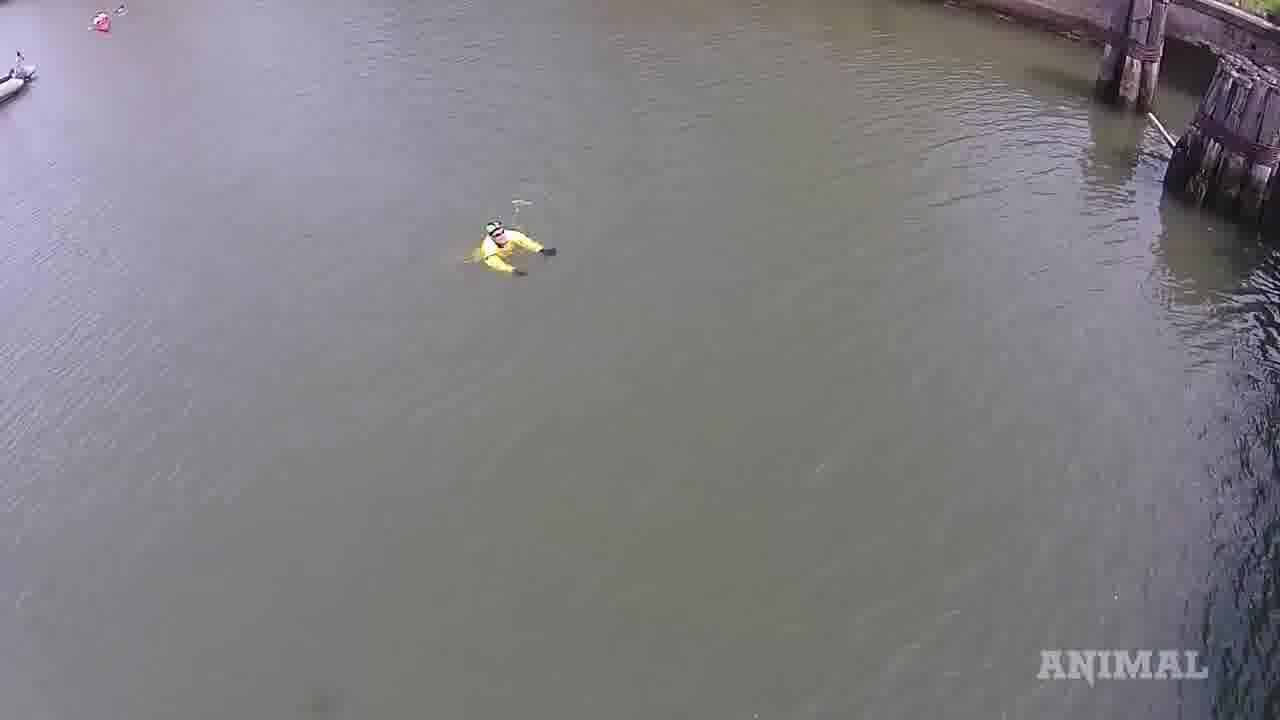human: (460, 199, 562, 299)
